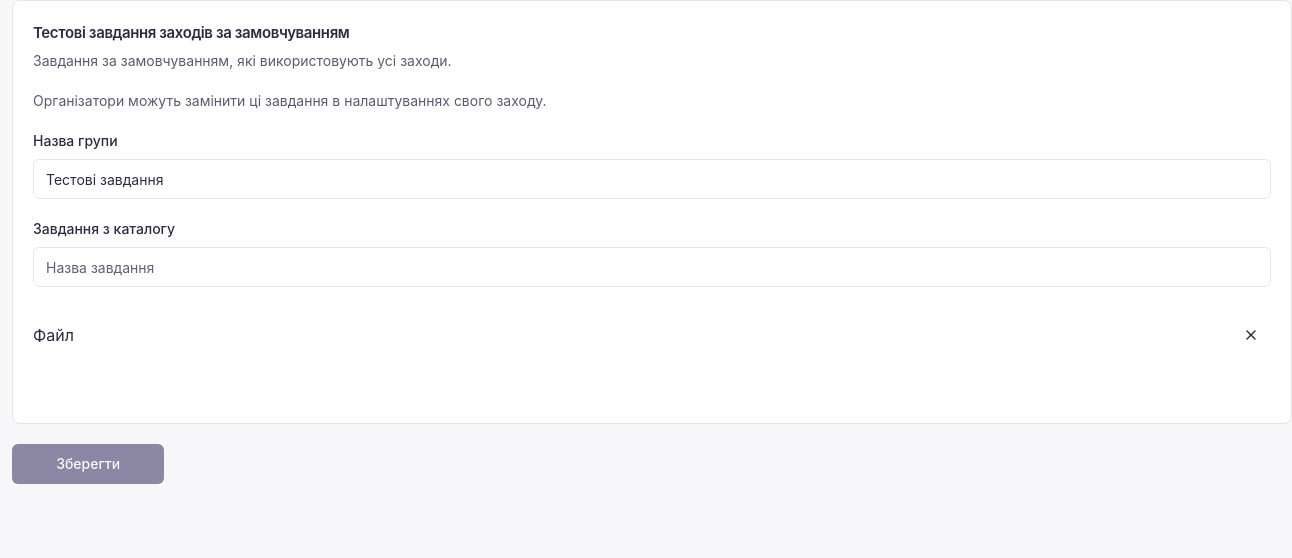
Test case: keeps edits after a save failure
This screenshot has width=1292, height=558.
Focus the dropdown at {"x": 652, "y": 267}, box [33,247,1271,287]
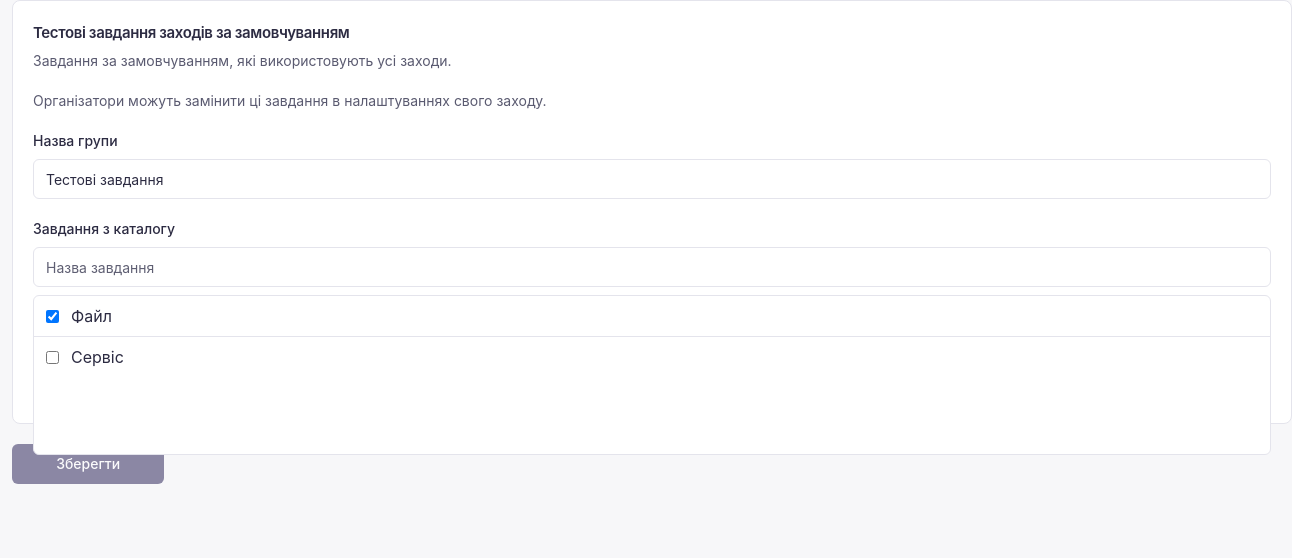
Now the list "Файл Сервіс" is shown, box [33,295,1271,455]
Click the checkbox labelled "Сервіс".
click(52, 357)  # box [46,350,59,364]
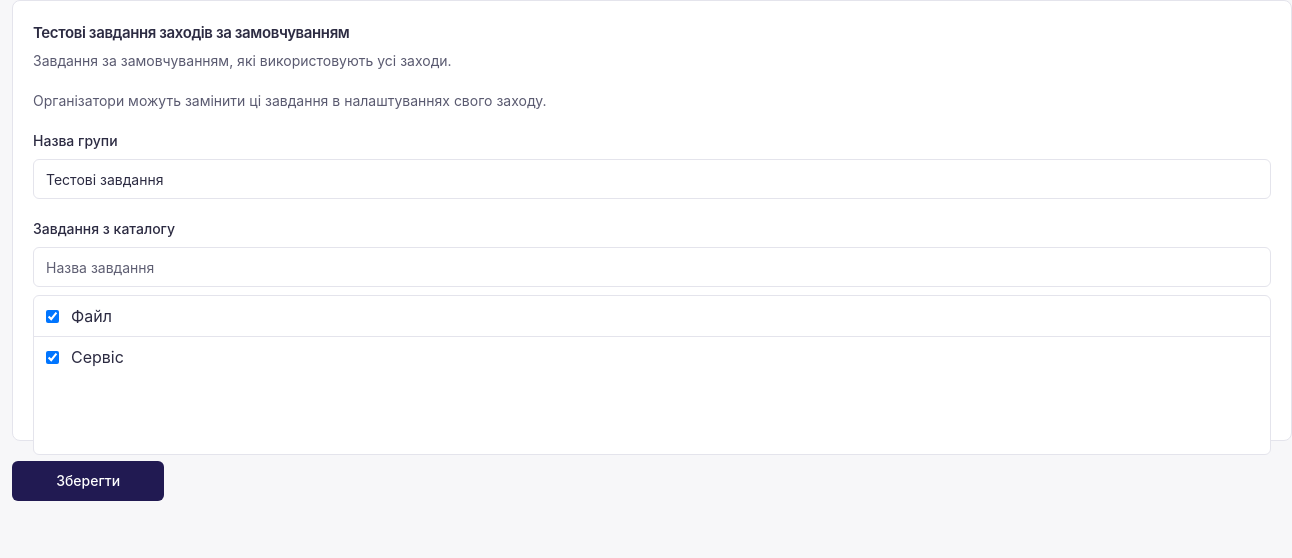
Click the button "Зберегти".
click(88, 481)  # box [12,461,164,501]
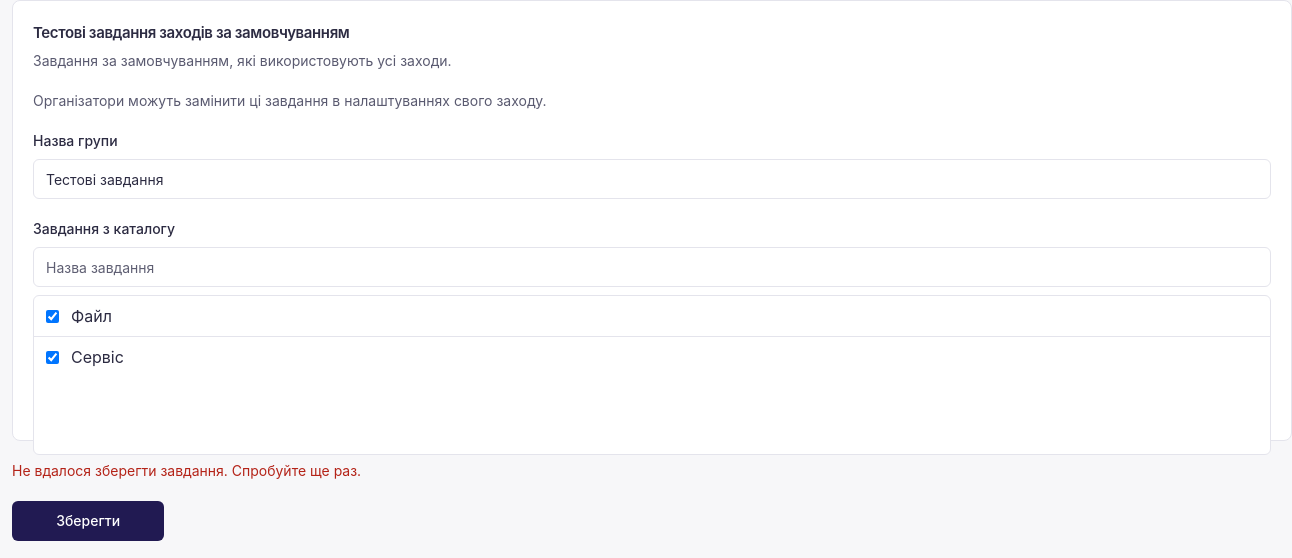
Now the checkbox labelled "Сервіс" is checked, box [46,350,59,364]
Now the message shows "Не вдалося зберегти", box [12,462,361,479]
